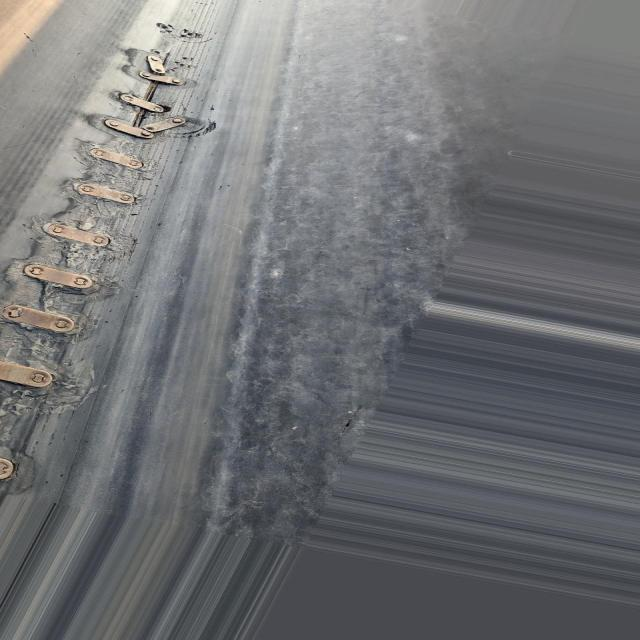patch work: (0, 19, 231, 518)
